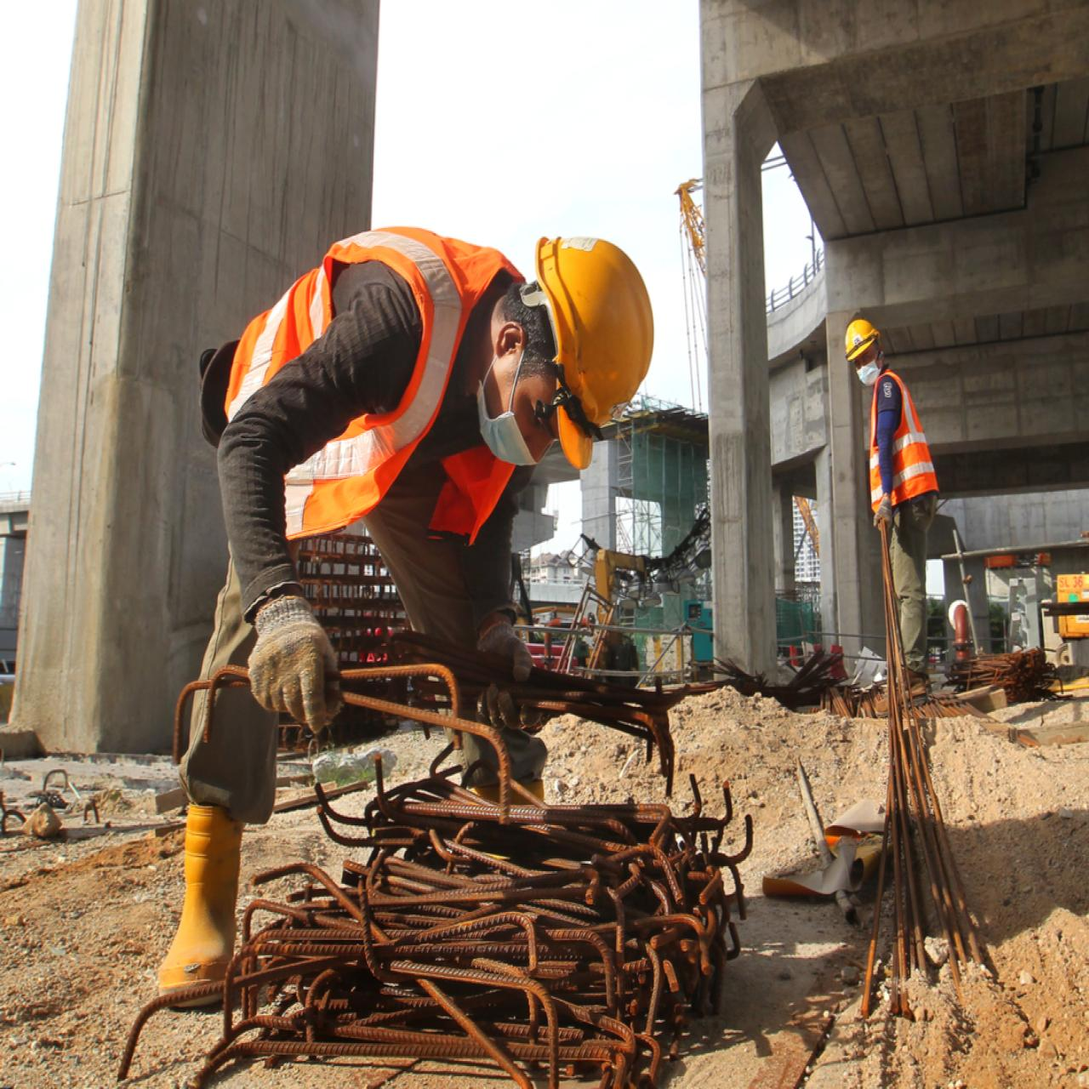Person: (185, 172, 673, 975), (839, 308, 960, 686)
Safety_Vest: (215, 198, 529, 608), (860, 372, 939, 520)
